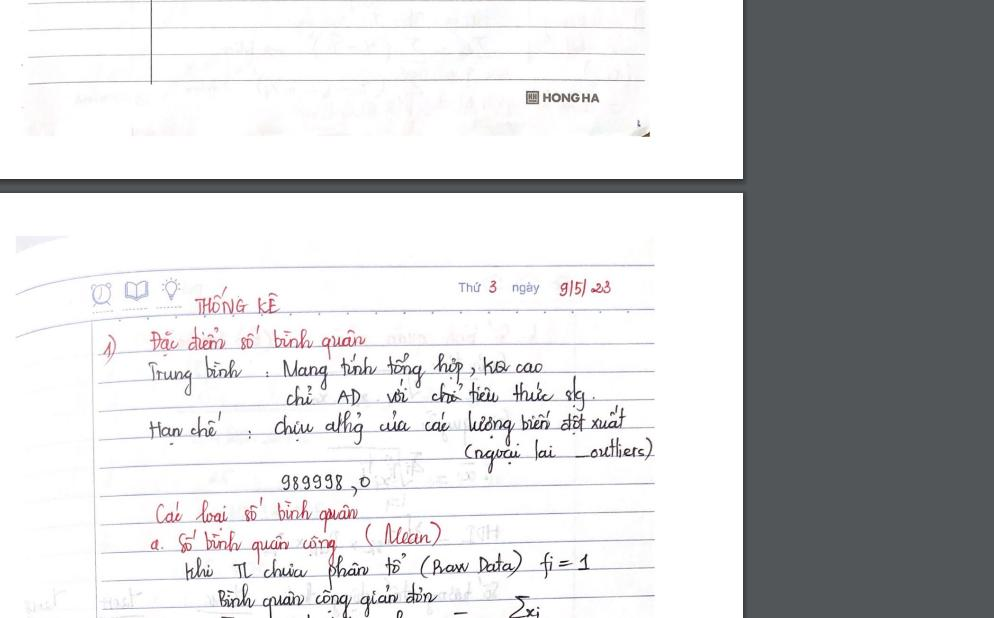text: (183, 547, 595, 591), (271, 403, 629, 446), (148, 518, 442, 568), (286, 374, 587, 414), (279, 351, 546, 391), (147, 323, 369, 361), (213, 581, 441, 618), (153, 495, 361, 533), (460, 435, 655, 475), (146, 355, 243, 399), (456, 277, 614, 298), (193, 284, 283, 318), (147, 409, 225, 447), (279, 472, 372, 496), (504, 590, 542, 618), (541, 90, 601, 104), (99, 331, 119, 368)
